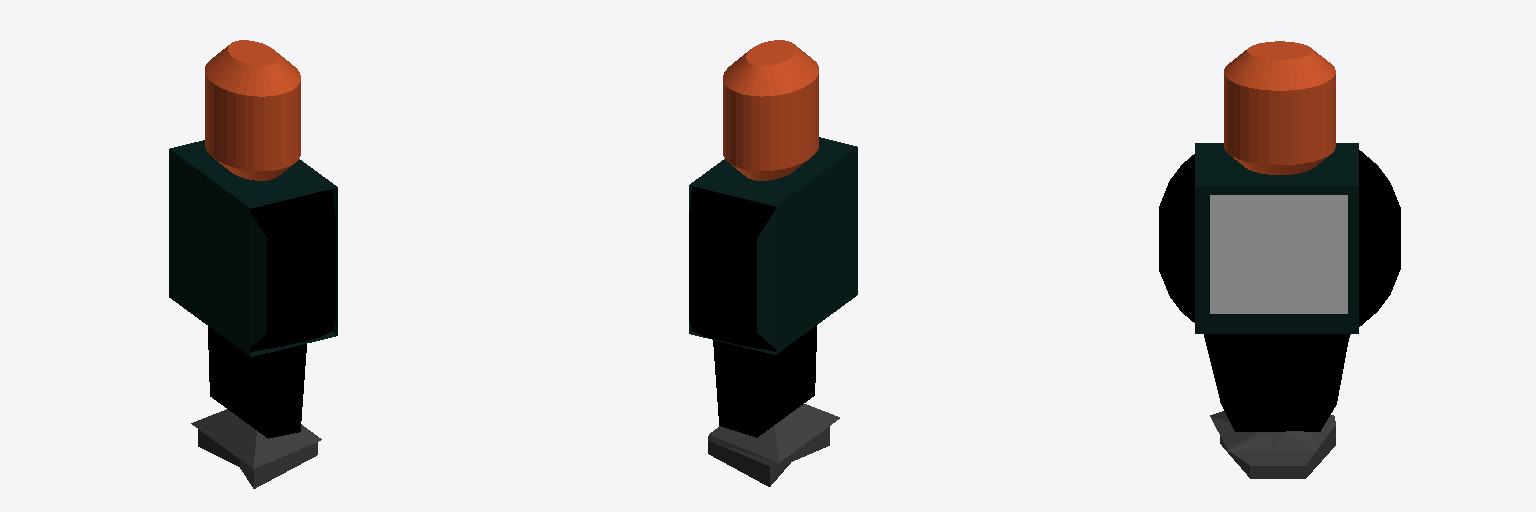
Rendered from legito.obj.
3 renders of one model, left to right at view 1: azimuth 30°, elevation 25°; view 2: azimuth 150°, elevation 25°; view 3: azimuth 270°, elevation 25°, orthographic.
Visible parts, largest first — view 1: Sueter_Cube.002, Cube, Cabeza_Cube.001, zapatitos_Cube.003; view 2: Sueter_Cube.002, Cube, Cabeza_Cube.001, zapatitos_Cube.003; view 3: Cube, fondo_sueter, Cabeza_Cube.001, Sueter_Cube.002, zapatitos_Cube.003.
Boxes of the visible parts, box(x1,y1,x2,y2) form: Sueter_Cube.002: box(169, 140, 337, 356); Cube: box(208, 189, 335, 438); Cabeza_Cube.001: box(205, 40, 300, 180); zapatitos_Cube.003: box(191, 409, 321, 488); Sueter_Cube.002: box(689, 137, 857, 354); Cube: box(689, 186, 816, 437); Cabeza_Cube.001: box(723, 40, 818, 180); zapatitos_Cube.003: box(708, 404, 839, 486); Cube: box(1159, 150, 1400, 431); fondo_sueter: box(1210, 195, 1347, 313); Cabeza_Cube.001: box(1224, 41, 1335, 174); Sueter_Cube.002: box(1195, 143, 1358, 333); zapatitos_Cube.003: box(1210, 411, 1335, 478).
Bounding box in the file's own units: 1.34 × 5.49 × 2.96.